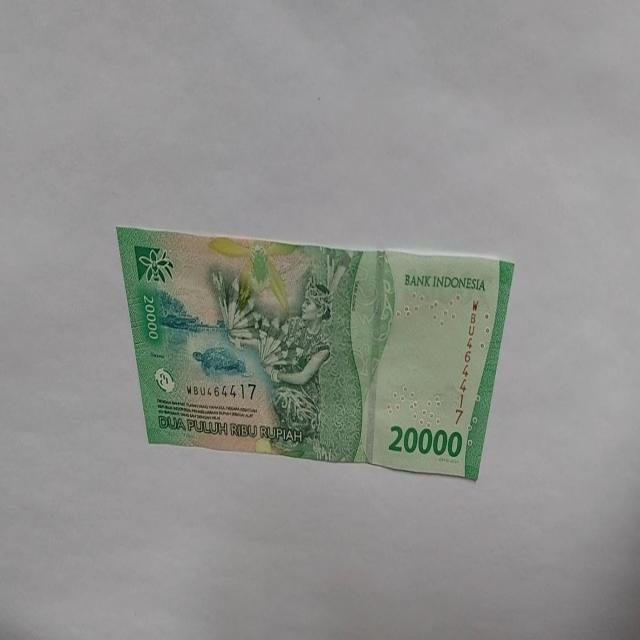dua puluh ribu rupiah: (115, 223, 515, 482)
